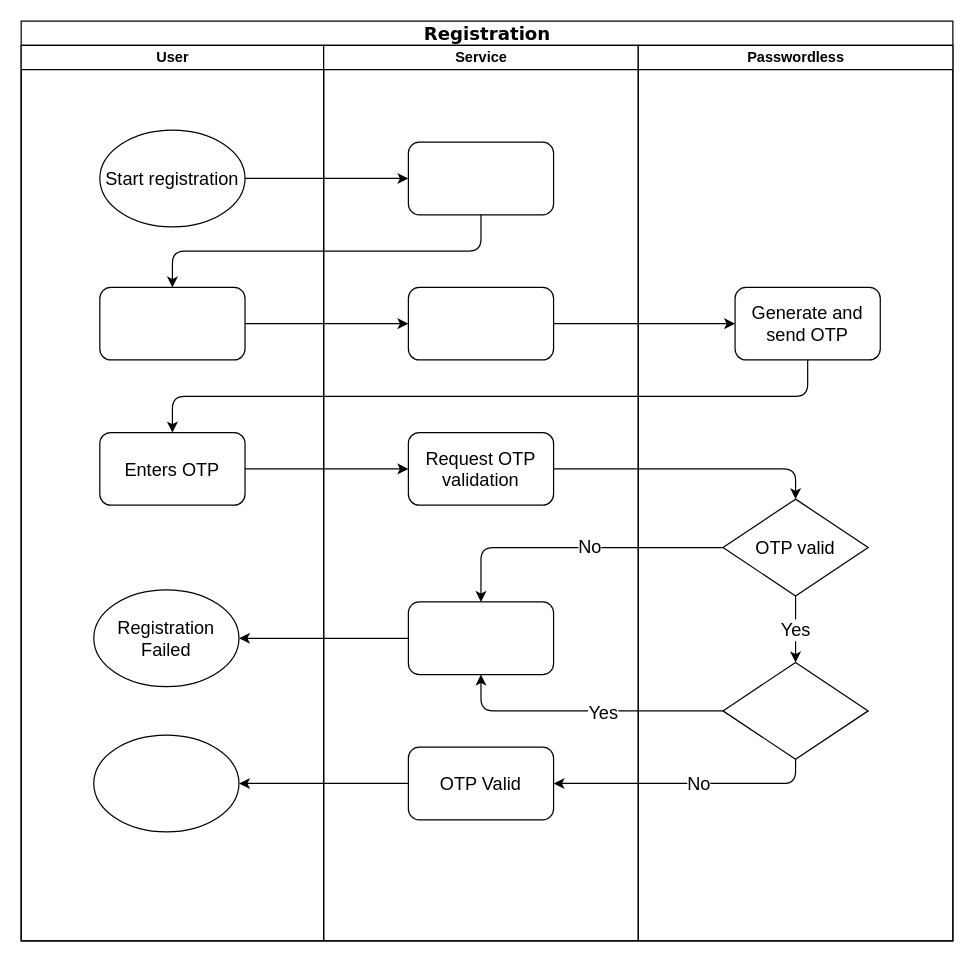
The diagram is 974 pixels wide and 962 high, and some of its shapes have lost their labels. Each missing label, with the centre of its shape:
"Enters phone number" belongs at (172,323).
"OTP expired" belongs at (795,710).
"OTP invalid" belongs at (480,638).
"Registration Successful" belongs at (166,783).
"Request phone" belongs at (480,178).
"Request send OTP" belongs at (480,323).
